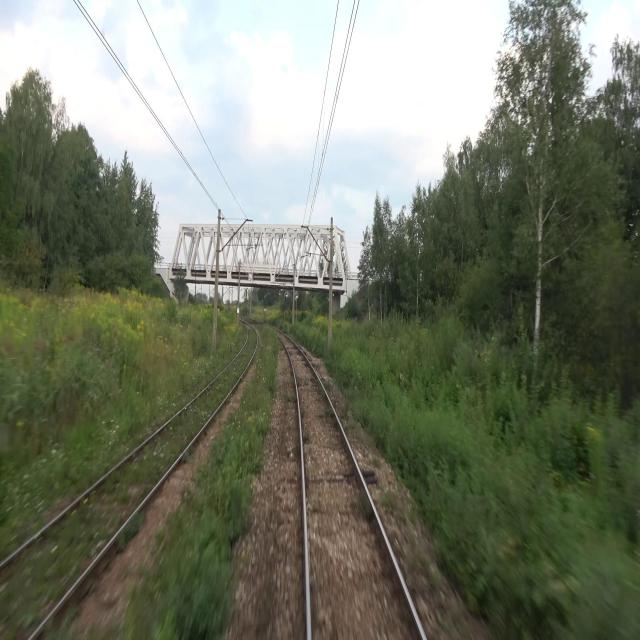rail-track: (0, 325, 256, 639), (279, 334, 422, 639)
